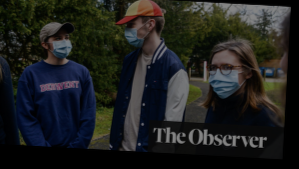with_mask: (206, 60, 242, 100), (48, 31, 73, 58), (123, 20, 146, 49)
